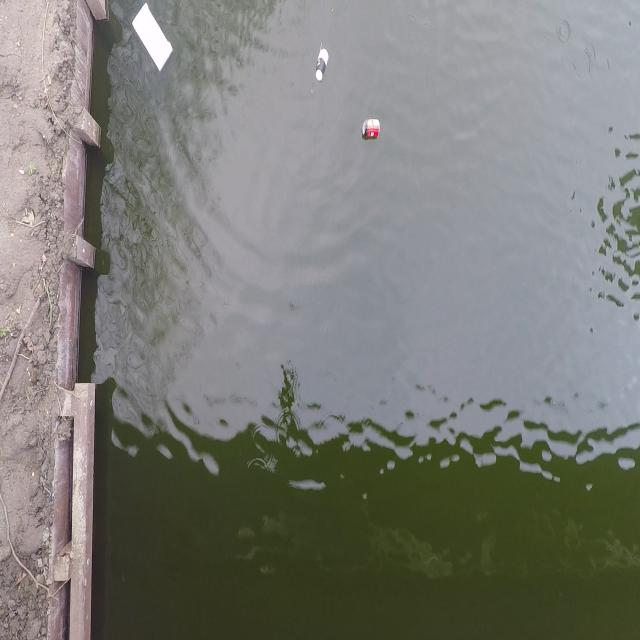Autre plastique: (131, 3, 176, 79)
Non plastique: (314, 44, 331, 86), (360, 115, 382, 143)
